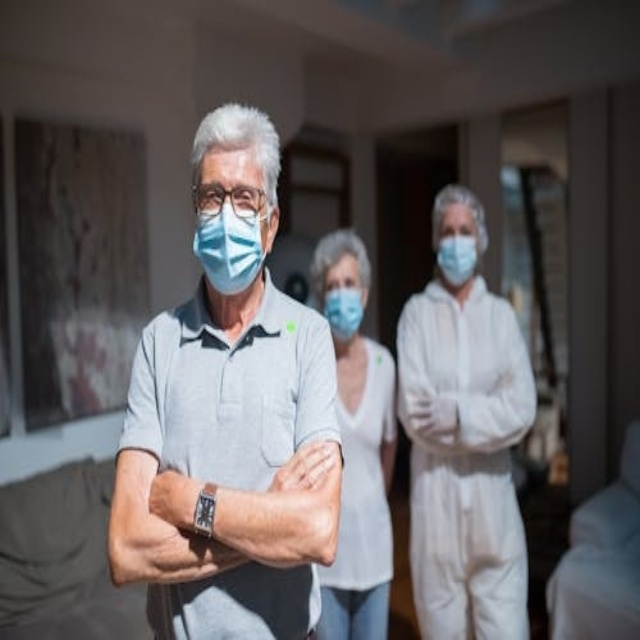Gafas: (192, 182, 272, 220)
Guantes: (421, 394, 461, 442)
Mascara: (193, 199, 267, 293), (436, 235, 477, 285), (324, 289, 365, 339)
Sin_gafas: (323, 268, 365, 287), (436, 217, 477, 236)
Sin_guantes: (261, 425, 339, 502), (141, 448, 193, 529)
